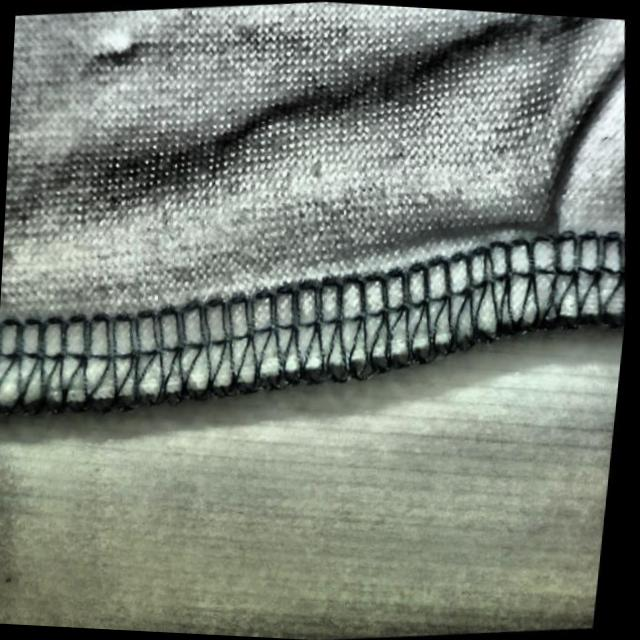seam: (0, 193, 632, 446)
